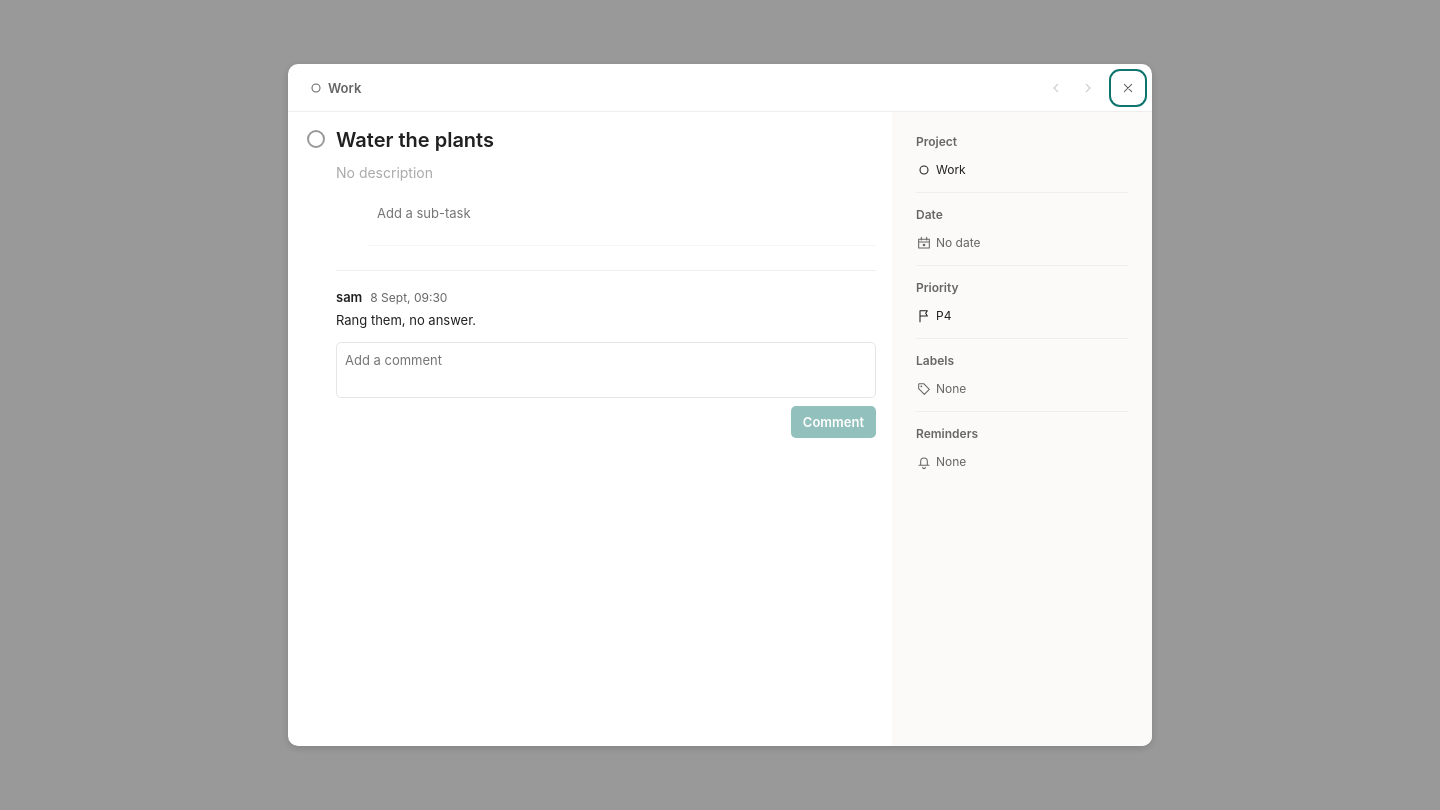
Test: the sidebar pickers › stays open and says why when the write fails
Step 1. Click the button named "Priority: change" → (1018, 316), box [912,302,1124,330]
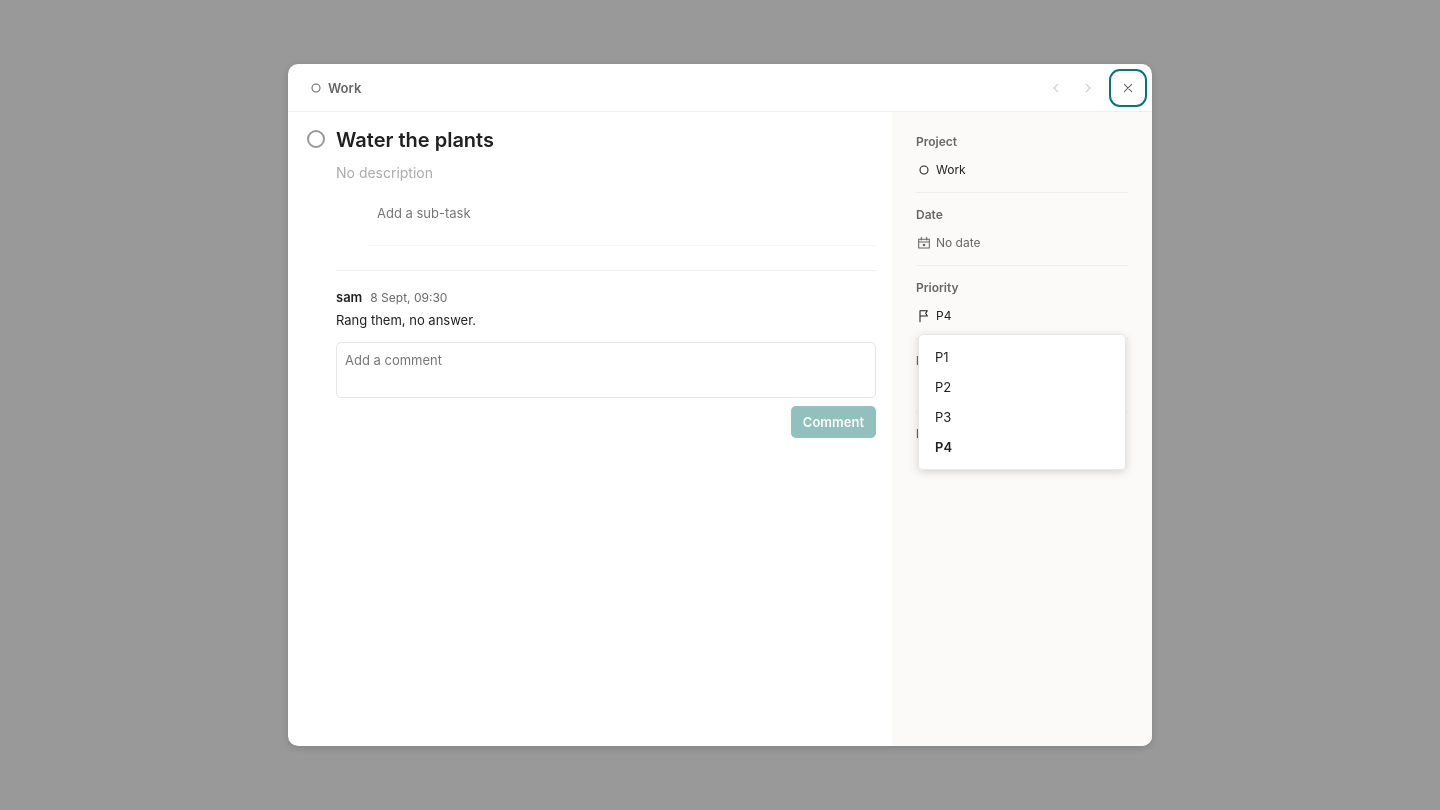
Step 2. Click the button "P1" → (1022, 357), box [927,343,1117,371]
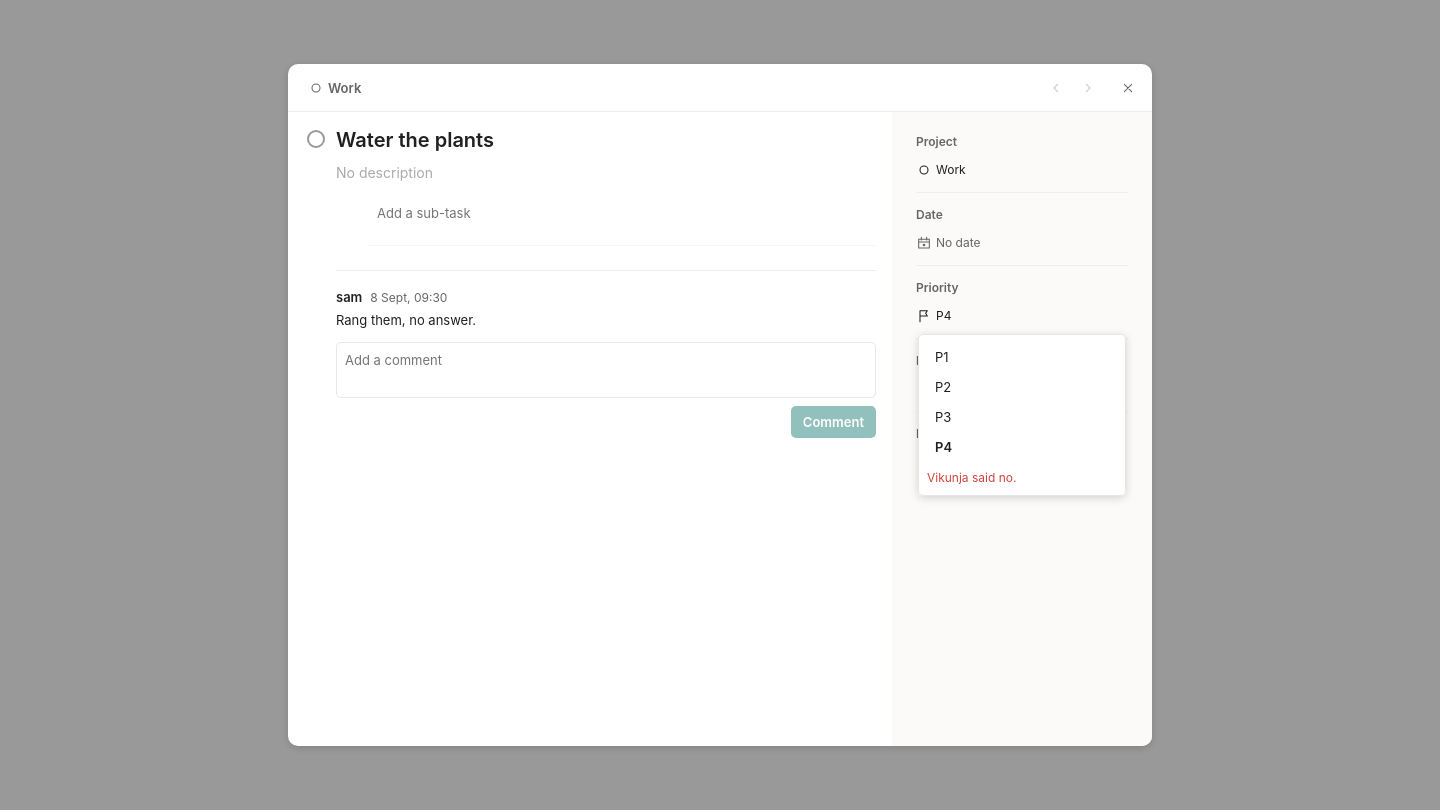
expect the button "P2" is shown: met, box [927,373,1117,401]
expect the text "Vikunja said no." is shown: met, box [927,470,1016,485]
